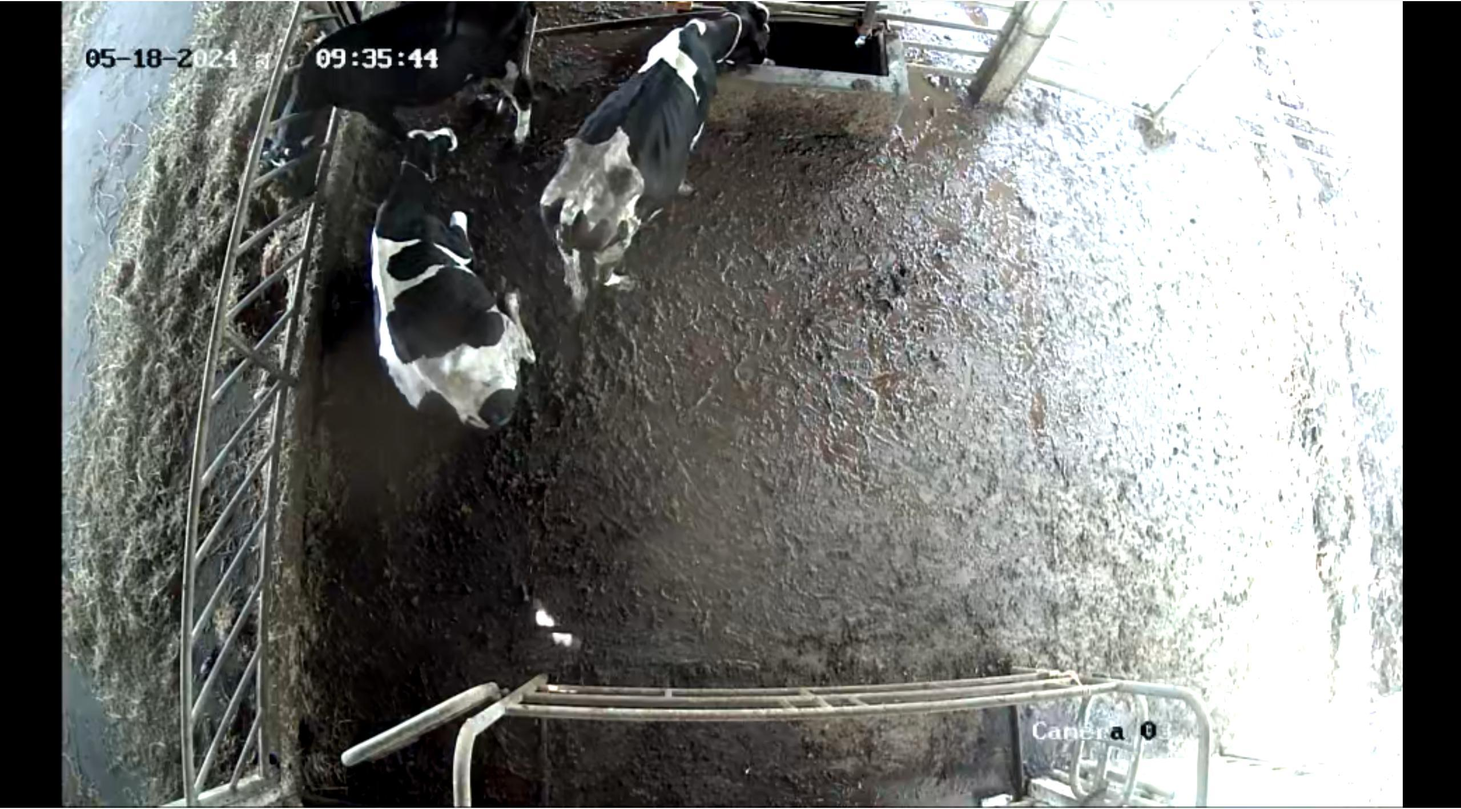drink: (670, 0, 803, 123)
eat: (225, 83, 356, 196)
lay: (357, 124, 550, 445)
